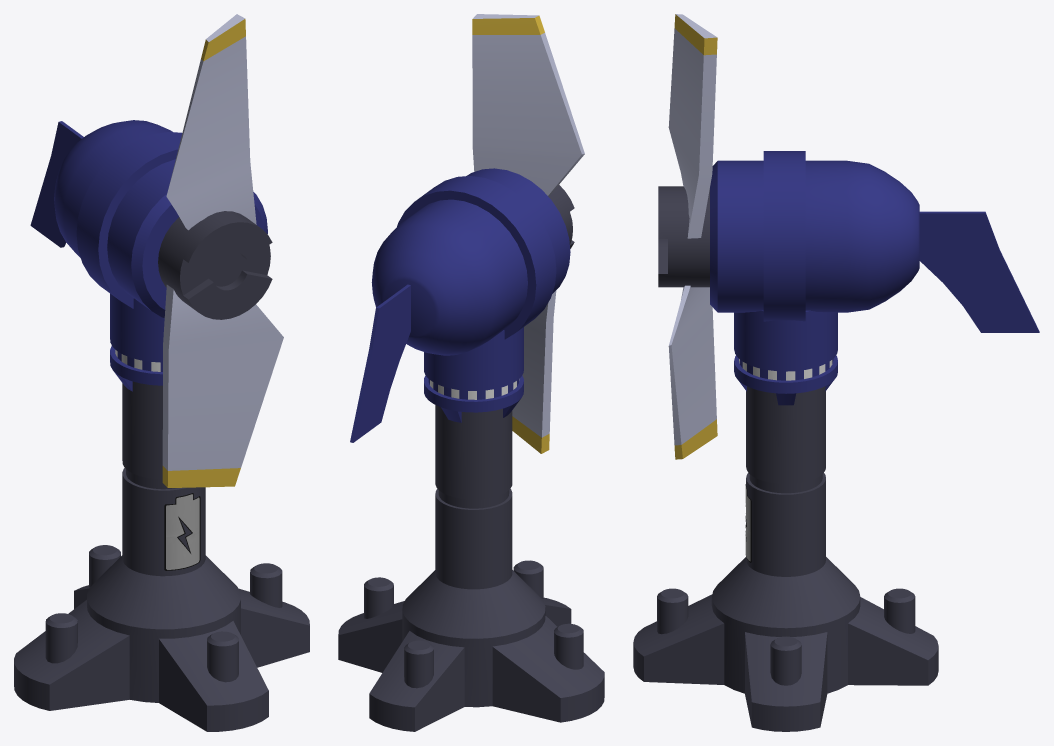
The model's file is WindTurbine.fbx.
The picture shows the model from 3 angles, left to right: view 1: azimuth 30°, elevation 25°; view 2: azimuth 150°, elevation 25°; view 3: azimuth 270°, elevation 25°; orthographic projection. The views are drawn at different scales.
Parts seen in each view (by area): view 1: TurbineBase, Head; view 2: TurbineBase, Head; view 3: TurbineBase, Head.
Boxes of the visible parts, bbox=[...] form: TurbineBase: bbox=[14, 120, 309, 731]; Head: bbox=[158, 14, 283, 487]; TurbineBase: bbox=[338, 168, 604, 731]; Head: bbox=[472, 14, 584, 453]; TurbineBase: bbox=[633, 151, 1039, 731]; Head: bbox=[658, 14, 717, 459].
Bounding box in the file's own units: 137 × 320 × 182.
